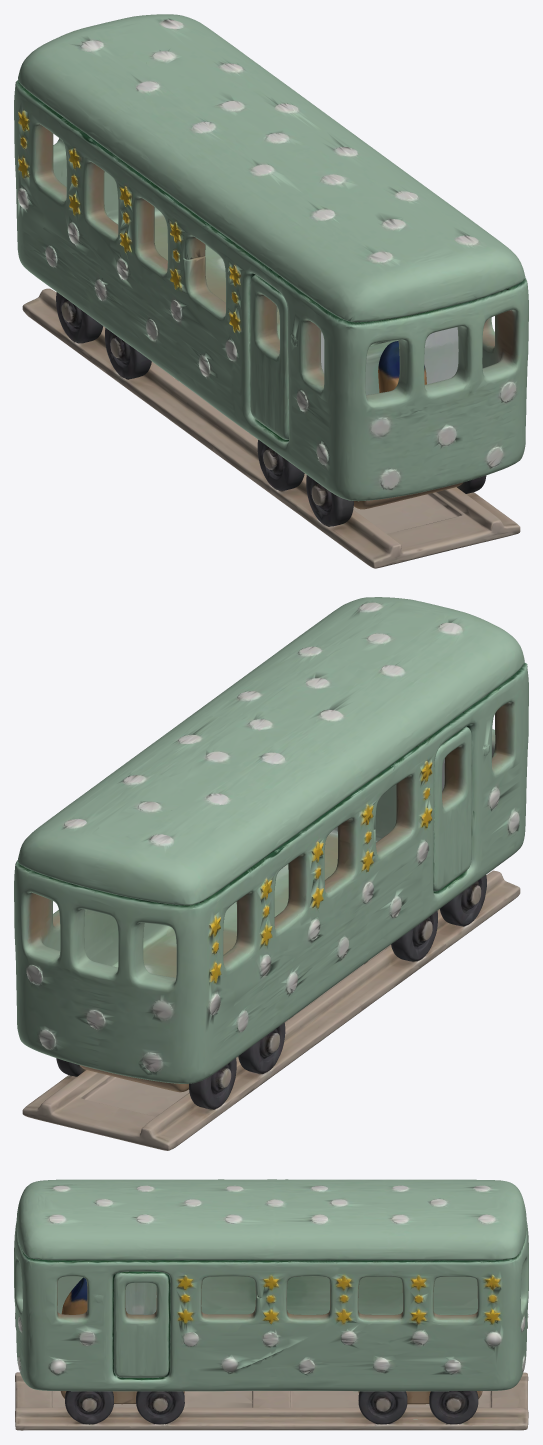
Rendered from train.glb.
3 views of the same model, one above another, from view 1: azimuth 30°, elevation 25°; view 2: azimuth 150°, elevation 25°; view 3: azimuth 270°, elevation 25° (orthographic). The views are drawn at different scales.
Parts seen in each view (by area): view 1: tripo_node_ef1403b9-b1fb-429d-b06f-bdddbdfd9801; view 2: tripo_node_ef1403b9-b1fb-429d-b06f-bdddbdfd9801; view 3: tripo_node_ef1403b9-b1fb-429d-b06f-bdddbdfd9801.
Part boxes in pixels (left/top/right/bottom): tripo_node_ef1403b9-b1fb-429d-b06f-bdddbdfd9801: left=14, top=14, right=528, bottom=568; tripo_node_ef1403b9-b1fb-429d-b06f-bdddbdfd9801: left=14, top=597, right=528, bottom=1150; tripo_node_ef1403b9-b1fb-429d-b06f-bdddbdfd9801: left=14, top=1179, right=528, bottom=1430.
Size of the model in its own units: 0.3092 by 0.4325 by 0.9801.
Materials: 1 (1 with a texture image).
